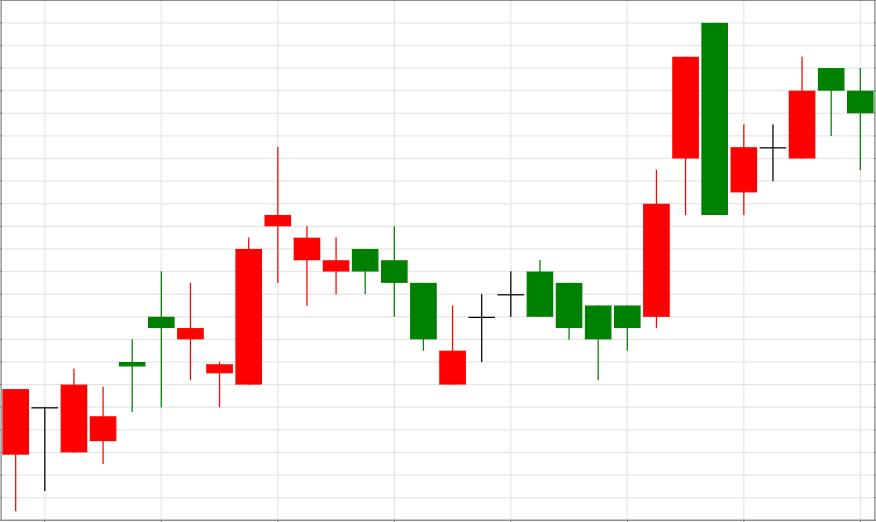bearish_engulfing_fall: (585, 22, 728, 380)
